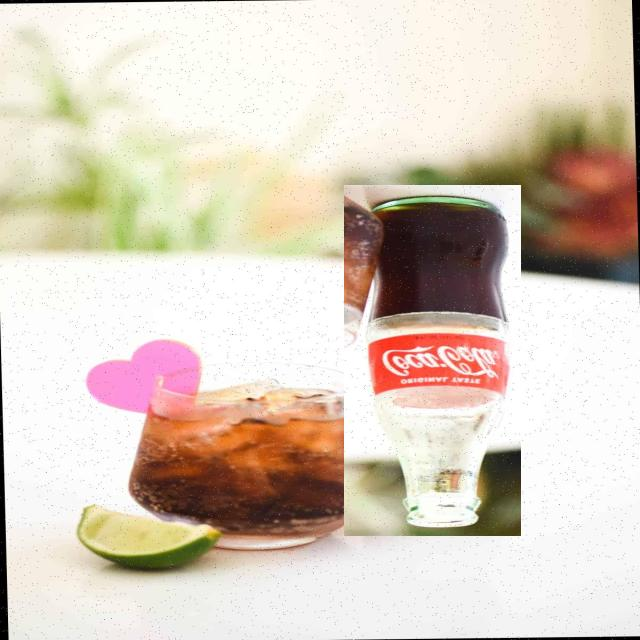coca-cola: (344, 185, 521, 536)
